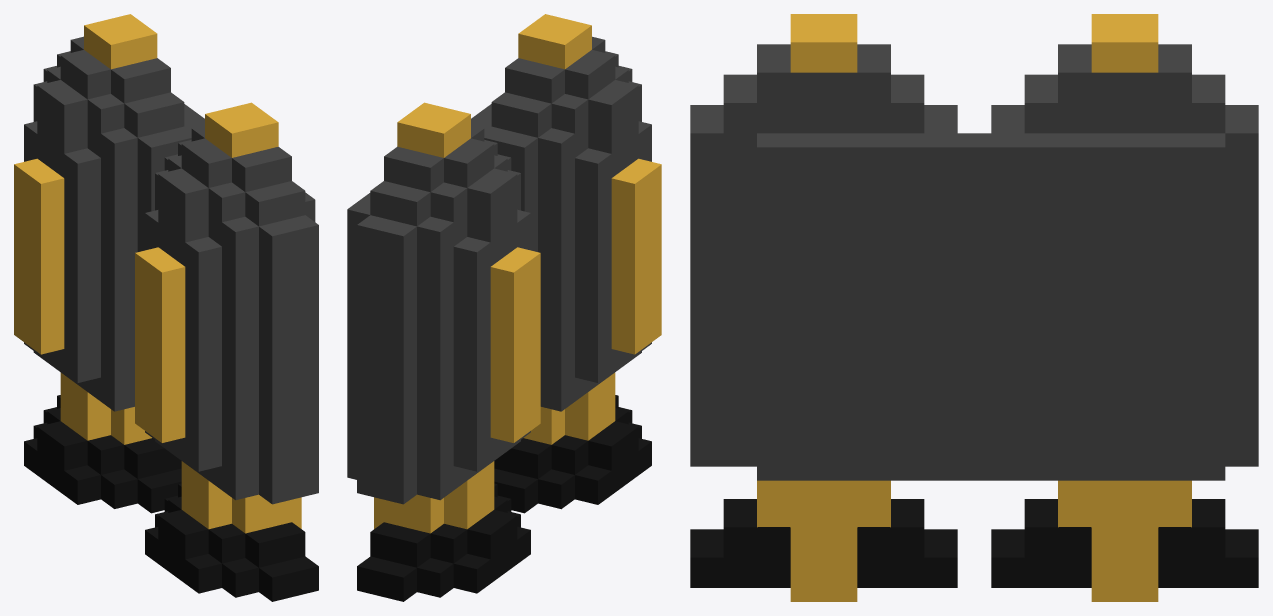
The model's file is jetpack.dae.
3 renders of one model, left to right at view 1: azimuth 30°, elevation 25°; view 2: azimuth 150°, elevation 25°; view 3: azimuth 270°, elevation 25°, orthographic. The views are drawn at different scales.
Visible parts, largest first — view 1: jetpack; view 2: jetpack; view 3: jetpack.
Boxes of the visible parts, left/top/right/bottom form: jetpack: left=14, top=14, right=318, bottom=601; jetpack: left=347, top=14, right=661, bottom=601; jetpack: left=690, top=14, right=1258, bottom=601.
Size of the model in its own units: 0.6 by 1.8 by 1.7.
Materials: 1 (1 with a texture image).
